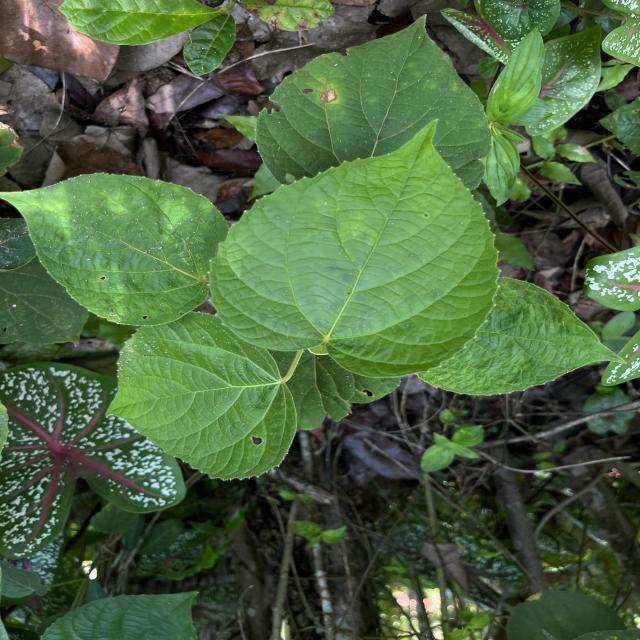Clerodendrum infortunatum: (207, 117, 503, 380), (254, 11, 494, 192), (0, 170, 230, 328), (104, 311, 300, 484), (413, 276, 629, 398)
